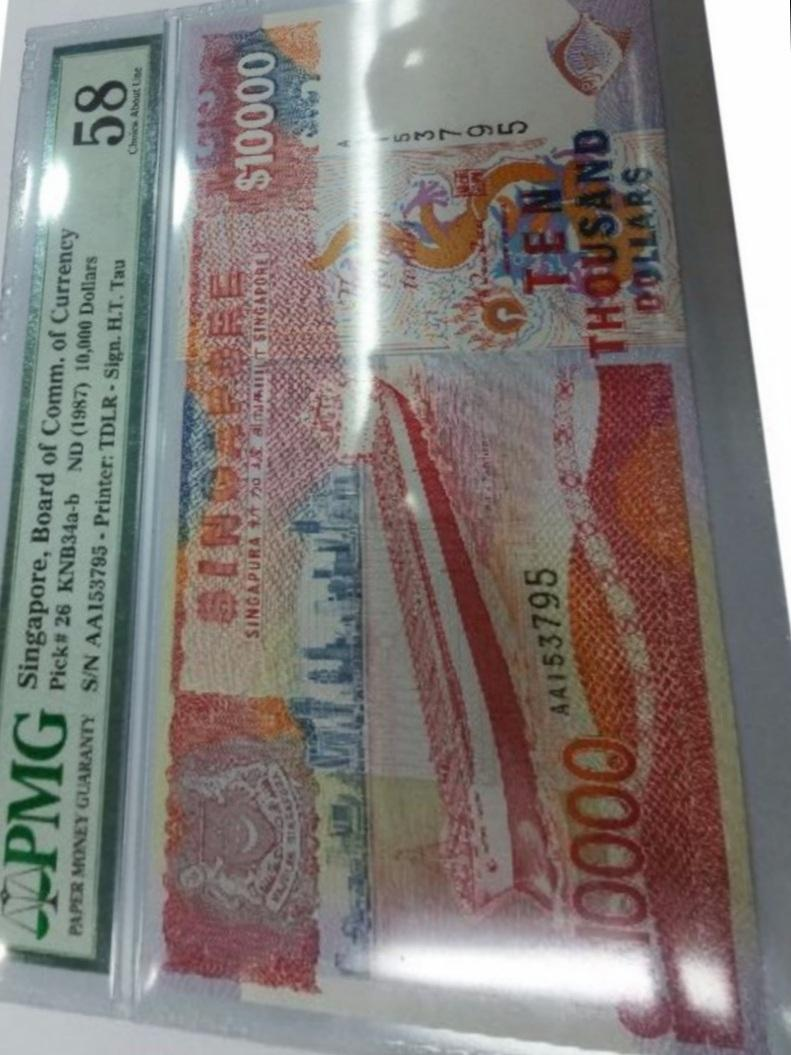10000SingaporeDollar: (178, 8, 671, 970)
